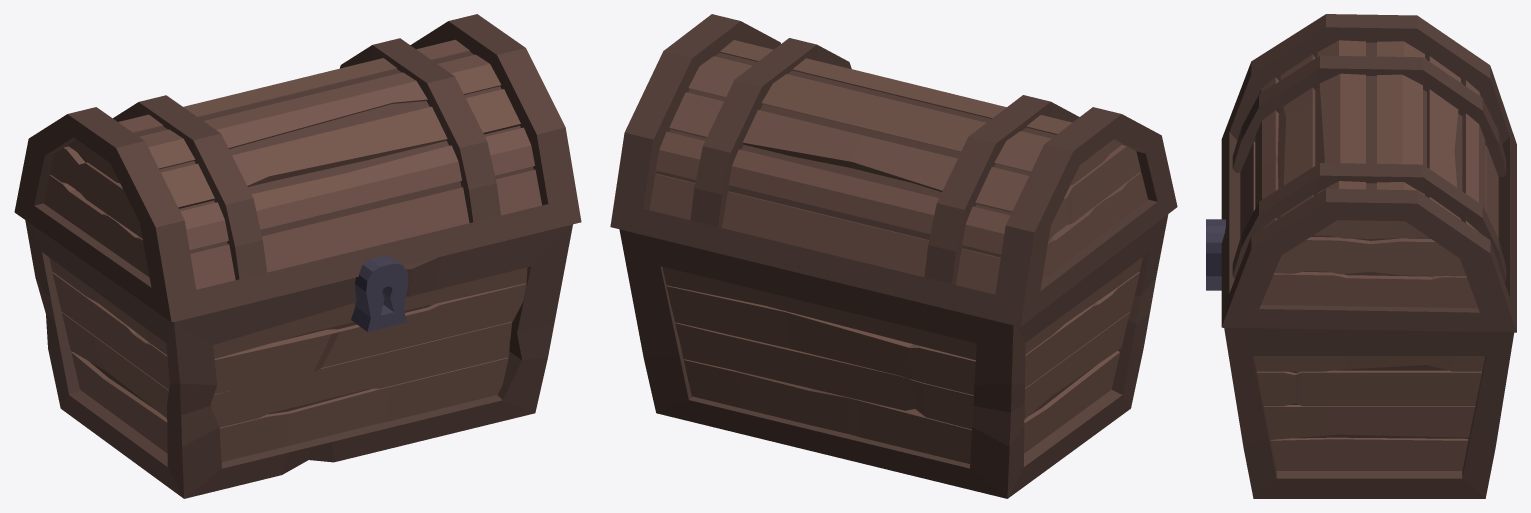
Rendered from coffre-anime.glb.
3 renders of one model, left to right at view 1: azimuth 30°, elevation 25°; view 2: azimuth 150°, elevation 25°; view 3: azimuth 270°, elevation 25°, orthographic. The views are drawn at different scales.
Visible parts, largest first — view 1: Chest_Top, Chest_Base; view 2: Chest_Top, Chest_Base; view 3: Chest_Top, Chest_Base.
Boxes of the visible parts, x1,y1,x2,y2 form: Chest_Top: (14,14,581,322); Chest_Base: (25,220,572,498); Chest_Top: (610,14,1177,326); Chest_Base: (619,214,1168,498); Chest_Top: (1221,14,1516,332); Chest_Base: (1206,219,1513,498).
Bounding box in the file's own units: 1.18 × 0.9069 × 0.8238.
